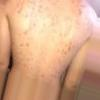Acne: (74, 6, 85, 23), (62, 43, 73, 57), (16, 7, 25, 18)
